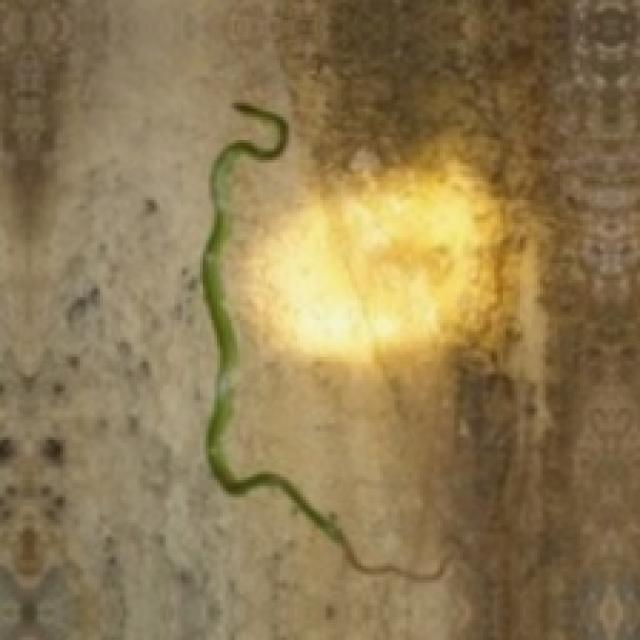red-tailed green ratsnake: (203, 103, 443, 580)
